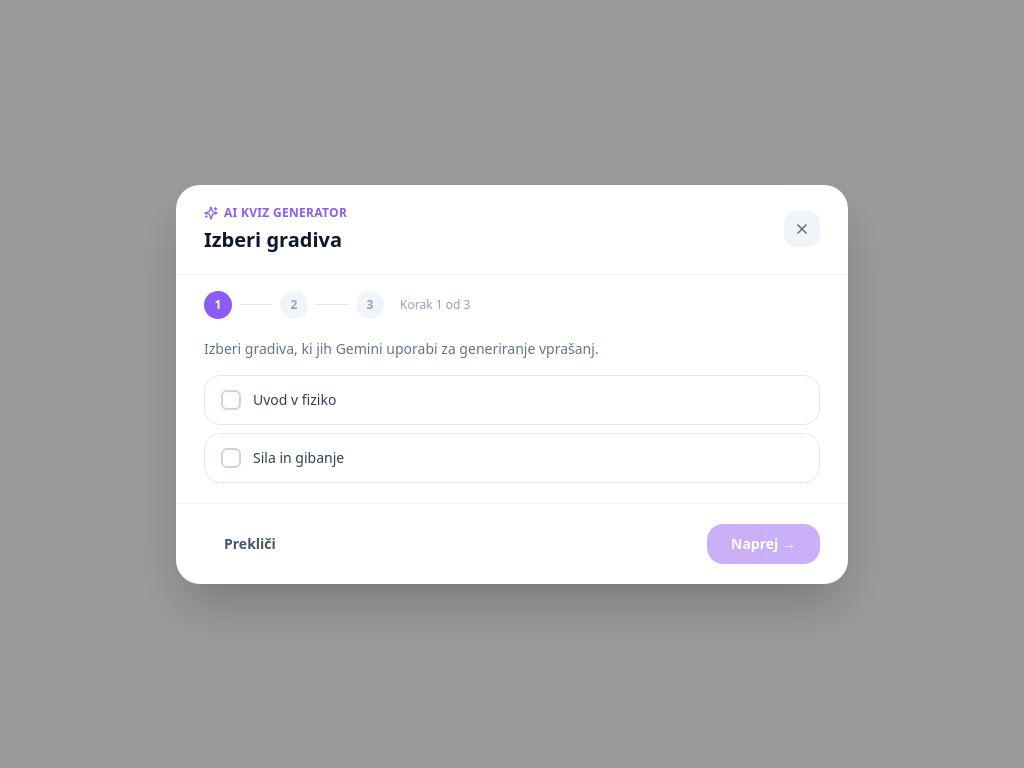
Scenario: ProfessorQuizModal — navigation › advances to config step after selecting a lesson
Click the button "Uvod v fiziko" at {"x": 295, "y": 399}, box [204, 374, 820, 424]
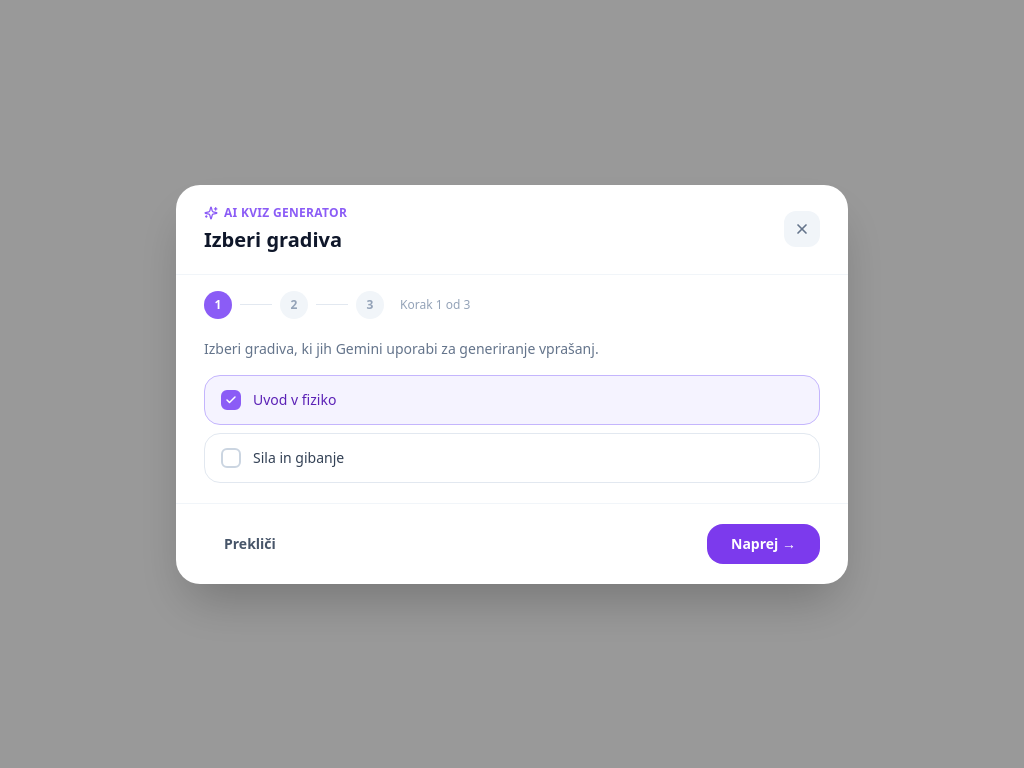
Click the button "Naprej →" at {"x": 764, "y": 544}, box [707, 524, 820, 564]
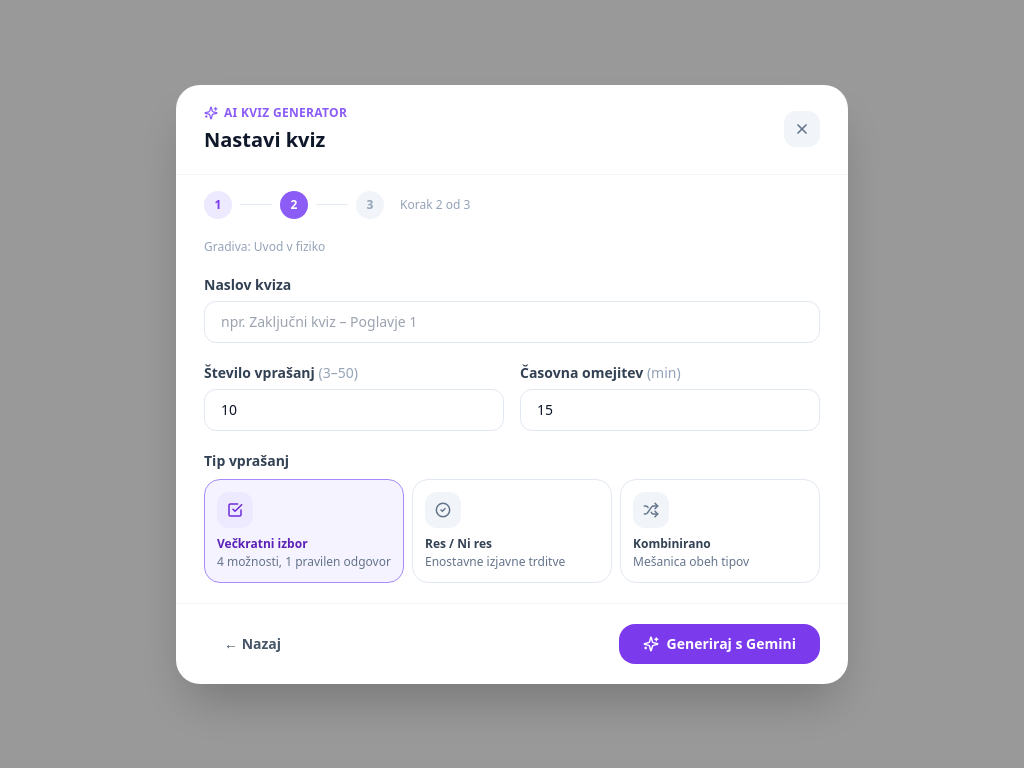
Expected: the heading "Nastavi kviz" is shown, [204, 126, 325, 152]
